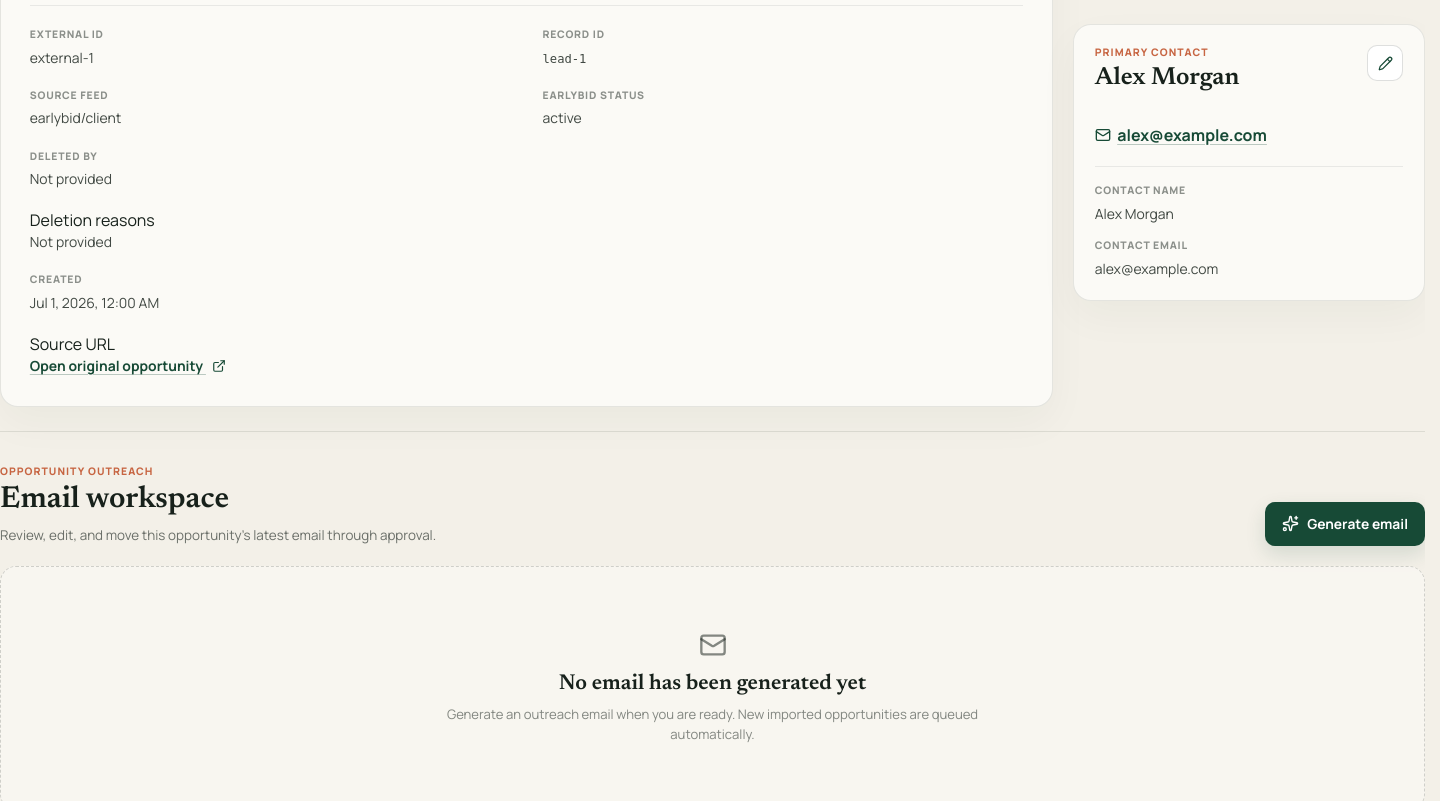
Test: Opportunity email workspace › queues the first email and shows a passive waiting state
(page scrolled)
Click the button "Generate email" at coordinates (1345, 524), box [1265,502,1425,546]
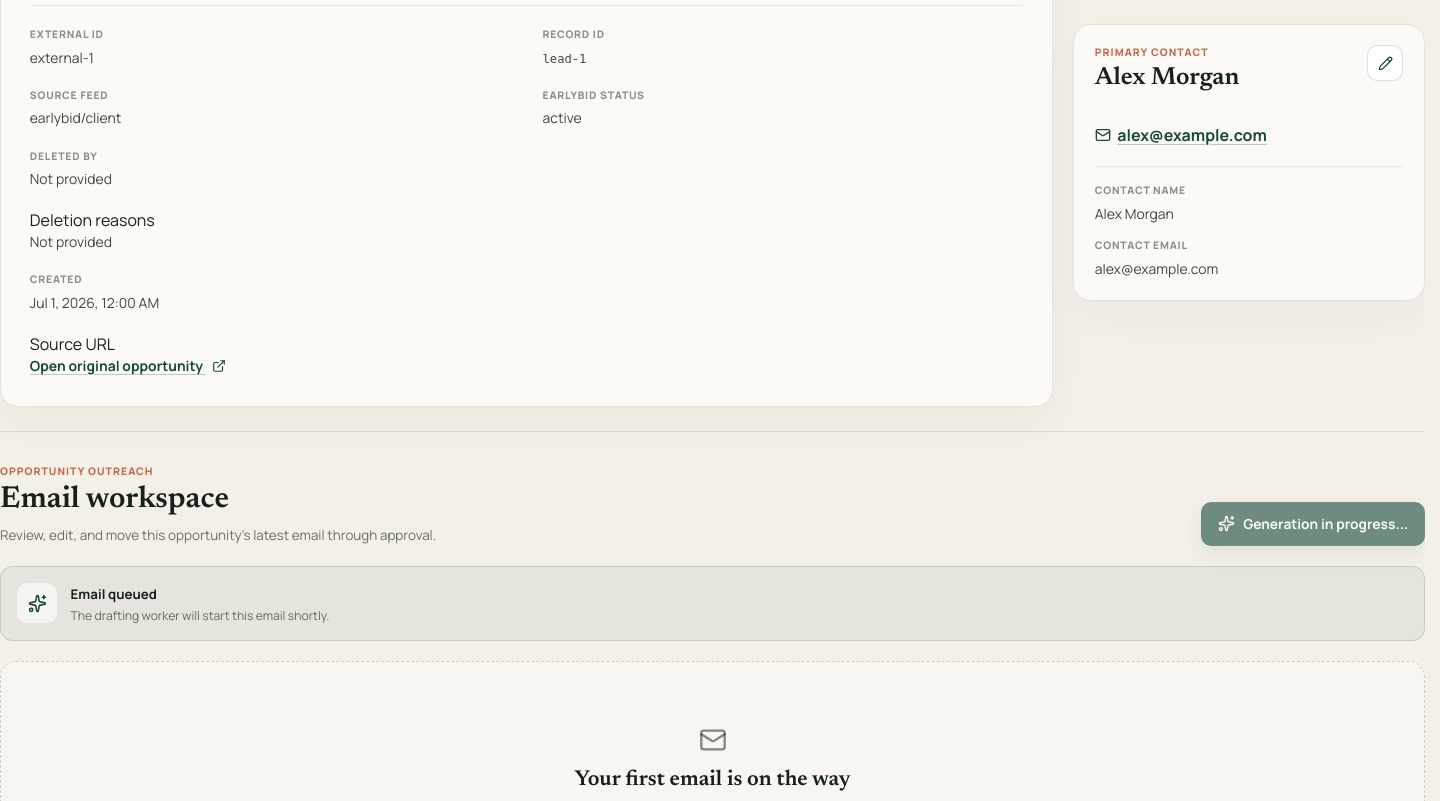
Now the text "Email queued" is shown, box [71,585,157,603]
Now the button "Generation in progress..." is disabled, box [1201,502,1425,546]
